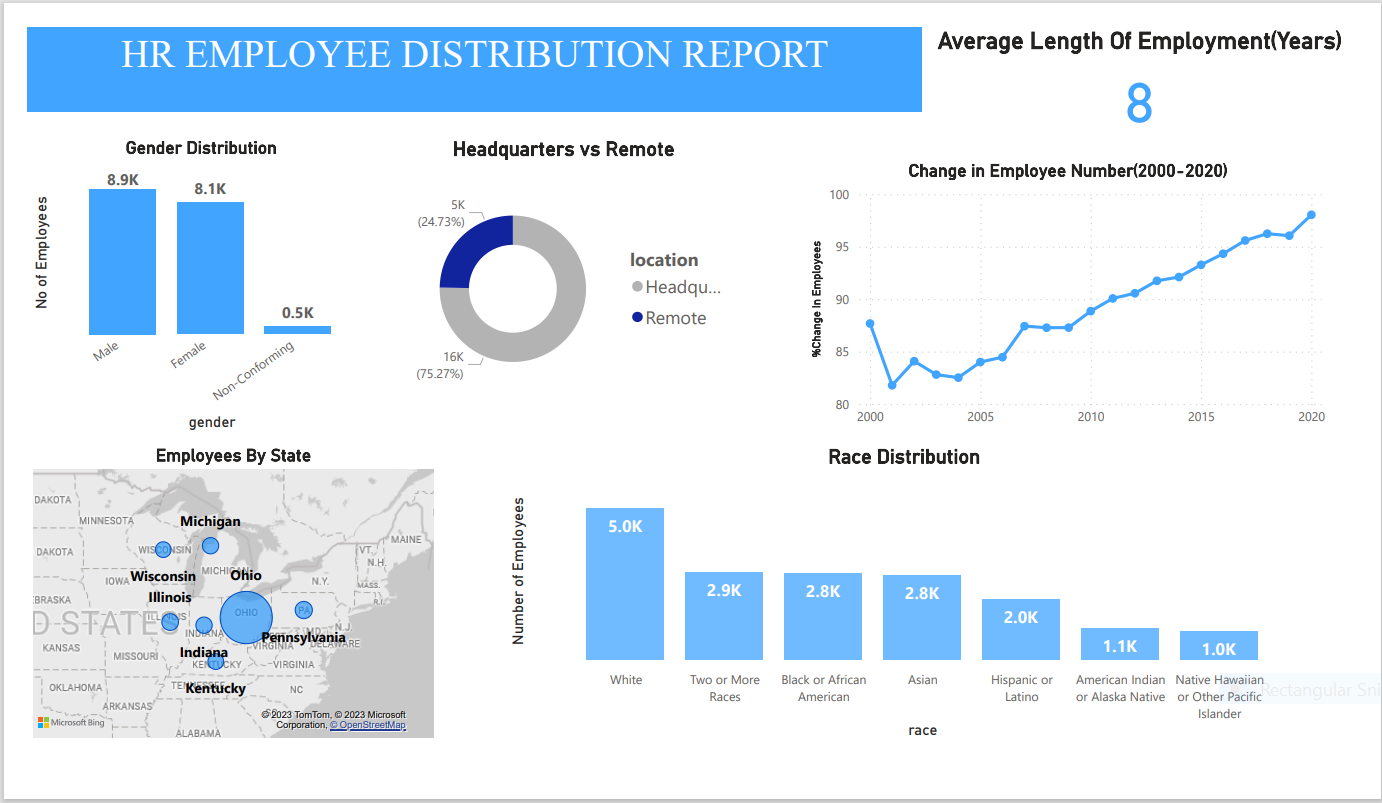

The page's visual inventory and layout, read from the dashboard file:
{"tool":"powerbi","page":{"name":"Page 1","canvas":[1280,720],"ordinal":0},"visuals":[{"type":"textbox","box":[0,0,861.5,81.1],"z":0},{"type":"card","title":"Average Length Of Employment(Years)","fields":{"Values":["Sum(avg_length_employment.avg_length_of_employment)"]},"box":[860.9,0,419.1,105.7],"z":1000},{"type":"columnChart","title":"Gender Distribution","fields":{"Category":["gender.gender"],"Y":["Sum(gender.count)"]},"box":[0,105.7,334.2,287],"z":2000},{"type":"donutChart","title":"Headquarters vs Remote","fields":{"Y":["Sum(location.count)"],"Category":["location.location"]},"box":[349.3,105.7,334.2,270],"z":3000},{"type":"lineChart","title":"Change in Employee Number(2000-2020)","fields":{"Category":["employee_change.year"],"Y":["Sum(employee_change.net_change_percent)"]},"box":[749.5,128.4,504.1,264.3],"z":3001},{"type":"map","title":"Employees By State","fields":{"Size":["Sum(state.count)"],"Category":["state.location_state"]},"box":[0,402.1,396.5,287],"z":3002},{"type":"clusteredColumnChart","title":"Race Distribution","fields":{"Y":["Sum(race.count)"],"Category":["race.race"]},"box":[458.8,402.1,770.3,287],"z":3003}]}

Visuals, with their boxes on the page's 1280x720 design canvas (x1, y1, x2, y2). These are canvas units, not pixel positions in the 1382x803 screenshot, which may show the page scaled, cropped or inside an application window:
textbox: box(0, 0, 862, 81)
"Average Length Of Employment(Years)" card: box(861, 0, 1280, 106)
"Gender Distribution" columnChart: box(0, 106, 334, 393)
"Headquarters vs Remote" donutChart: box(349, 106, 684, 376)
"Change in Employee Number(2000-2020)" lineChart: box(750, 128, 1254, 393)
"Employees By State" map: box(0, 402, 396, 689)
"Race Distribution" clusteredColumnChart: box(459, 402, 1229, 689)
